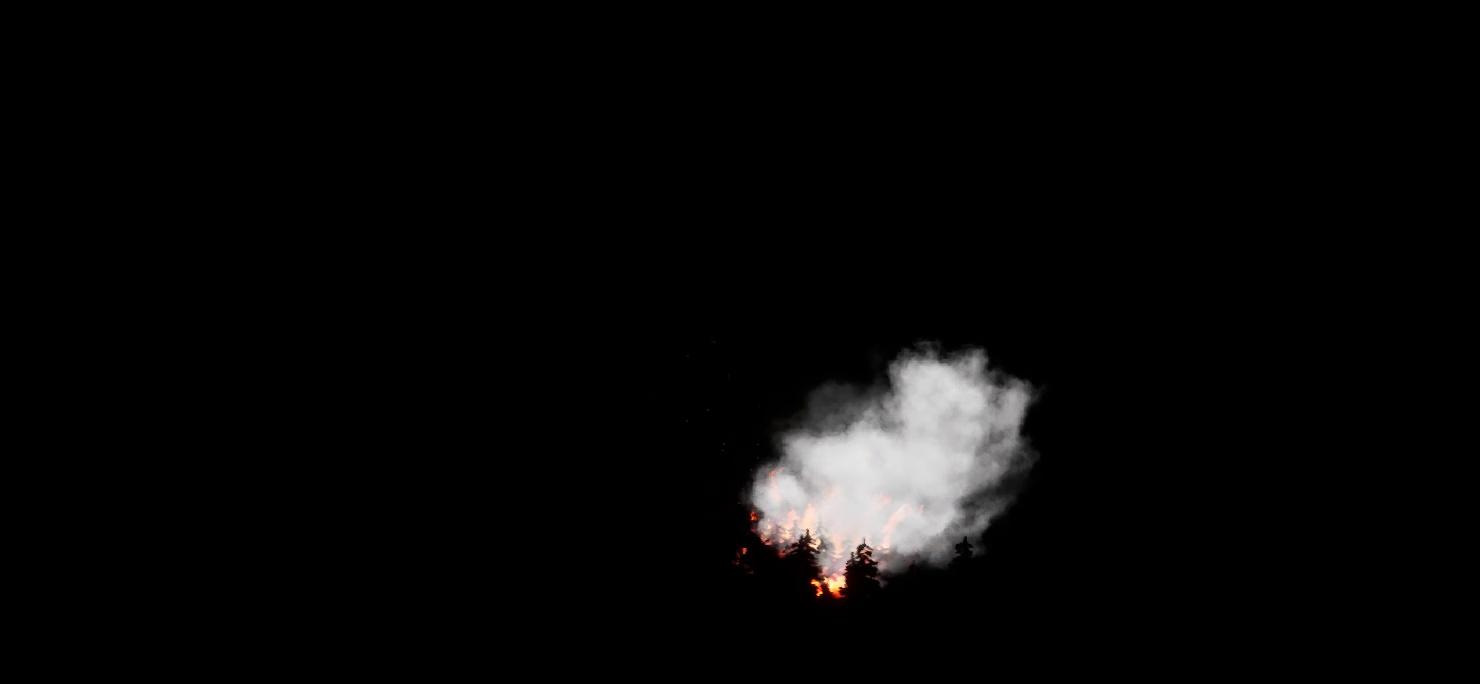fire: (749, 488, 921, 601)
smoke: (757, 342, 1023, 575)
